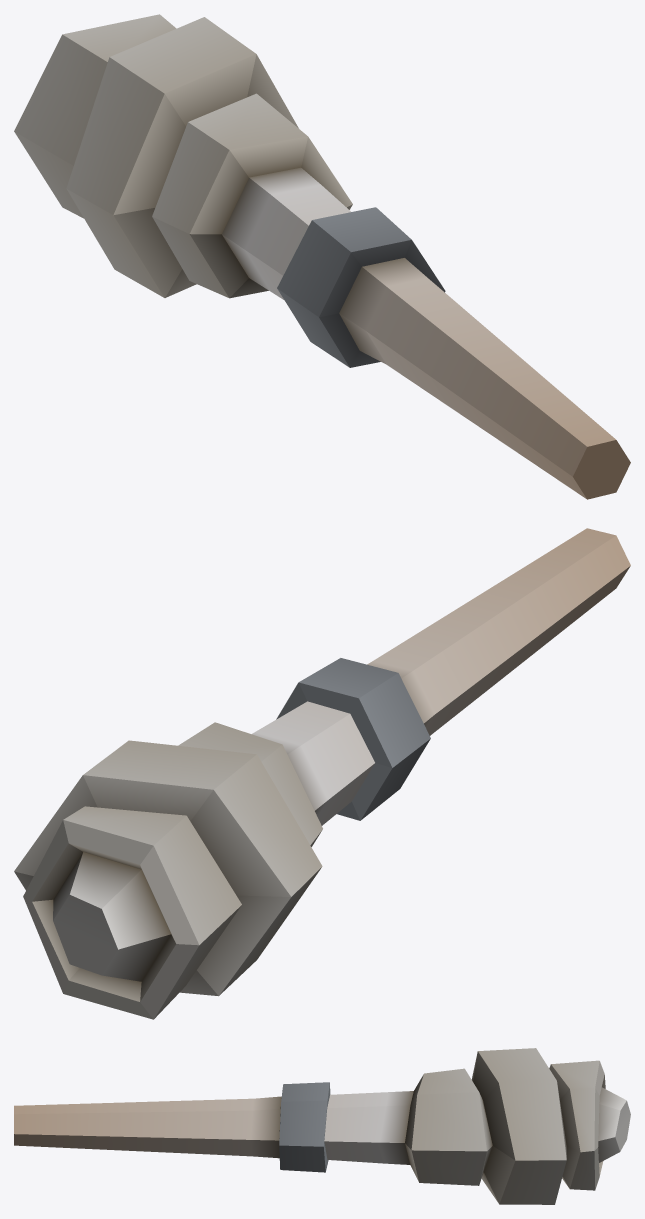
Rendered from Torch.fbx.
The picture shows the model from 3 angles, top to bottom: view 1: azimuth 30°, elevation 25°; view 2: azimuth 150°, elevation 25°; view 3: azimuth 270°, elevation 25°; orthographic projection. The views are drawn at different scales.
Parts seen in each view (by area): view 1: Torch; view 2: Torch; view 3: Torch.
Part boxes in pixels (left/top/right/bottom): Torch: left=14, top=14, right=630, bottom=499; Torch: left=14, top=528, right=630, bottom=1019; Torch: left=14, top=1048, right=630, bottom=1204.
Bounding box in the file's own units: 24.5 × 20.87 × 93.99.
